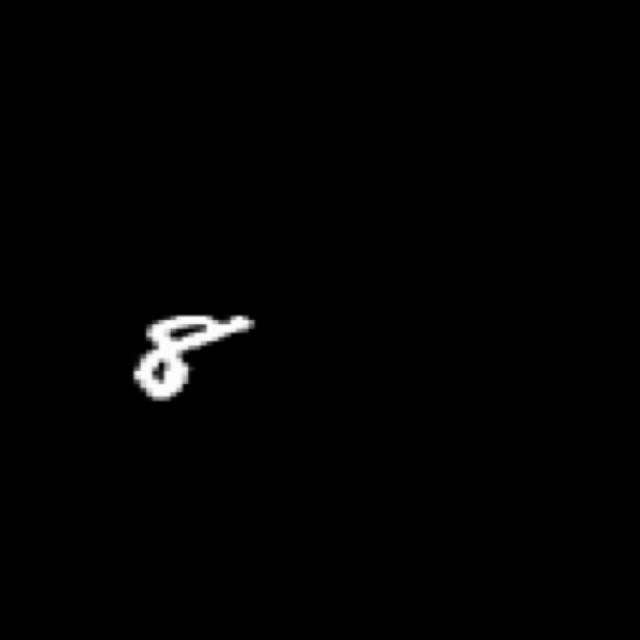eight -8-: (127, 309, 257, 403)
